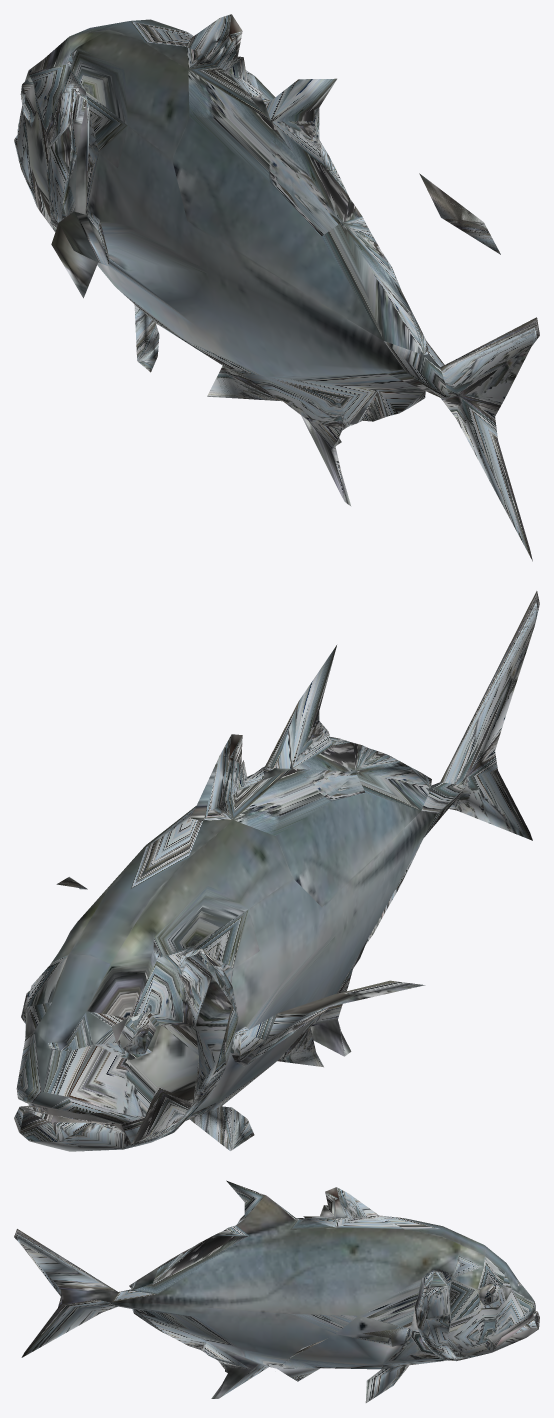
Rendered from grootoog_trevally-ver.glb.
The picture shows the model from 3 angles, top to bottom: view 1: azimuth 30°, elevation 25°; view 2: azimuth 150°, elevation 25°; view 3: azimuth 270°, elevation 25°; orthographic projection. The views are drawn at different scales.
Parts seen in each view (by area): view 1: tripo_node_9730e8a0-0ebf-4bd6-9163-6afb2b5b472b; view 2: tripo_node_9730e8a0-0ebf-4bd6-9163-6afb2b5b472b; view 3: tripo_node_9730e8a0-0ebf-4bd6-9163-6afb2b5b472b.
Boxes of the visible parts, x1,y1,x2,y2 form: tripo_node_9730e8a0-0ebf-4bd6-9163-6afb2b5b472b: (14,14,539,561); tripo_node_9730e8a0-0ebf-4bd6-9163-6afb2b5b472b: (14,591,539,1151); tripo_node_9730e8a0-0ebf-4bd6-9163-6afb2b5b472b: (14,1180,539,1402).
Size of the model in its own units: 0.4702 by 0.4915 by 1.07.
Materials: 1 (1 with a texture image).
